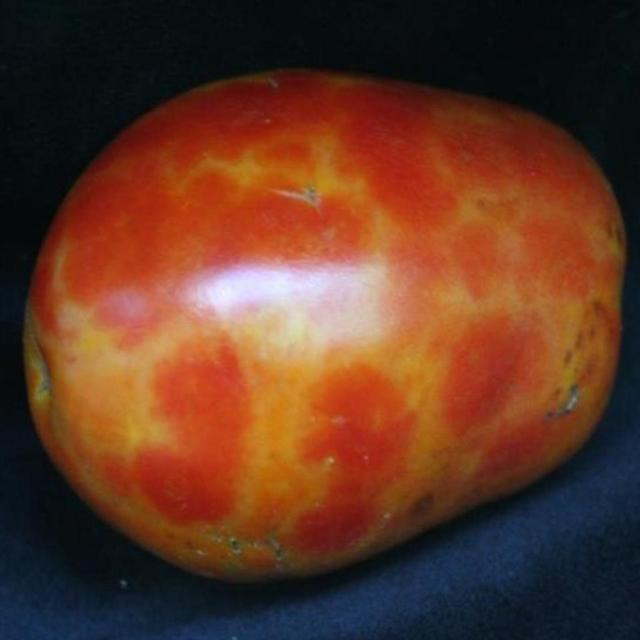Spotted wilt Virus Fruit: (49, 29, 86, 170)
